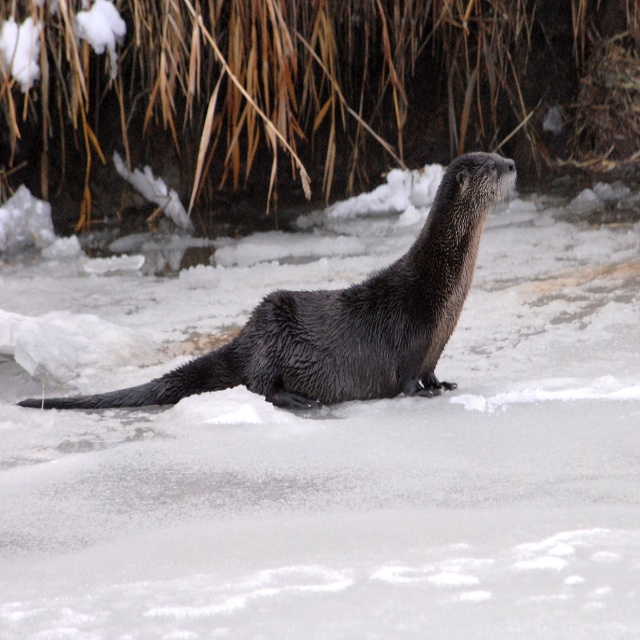Otter: (15, 150, 520, 410)
